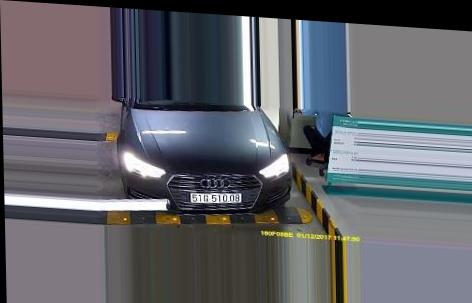License_Plate: (186, 186, 244, 208)
